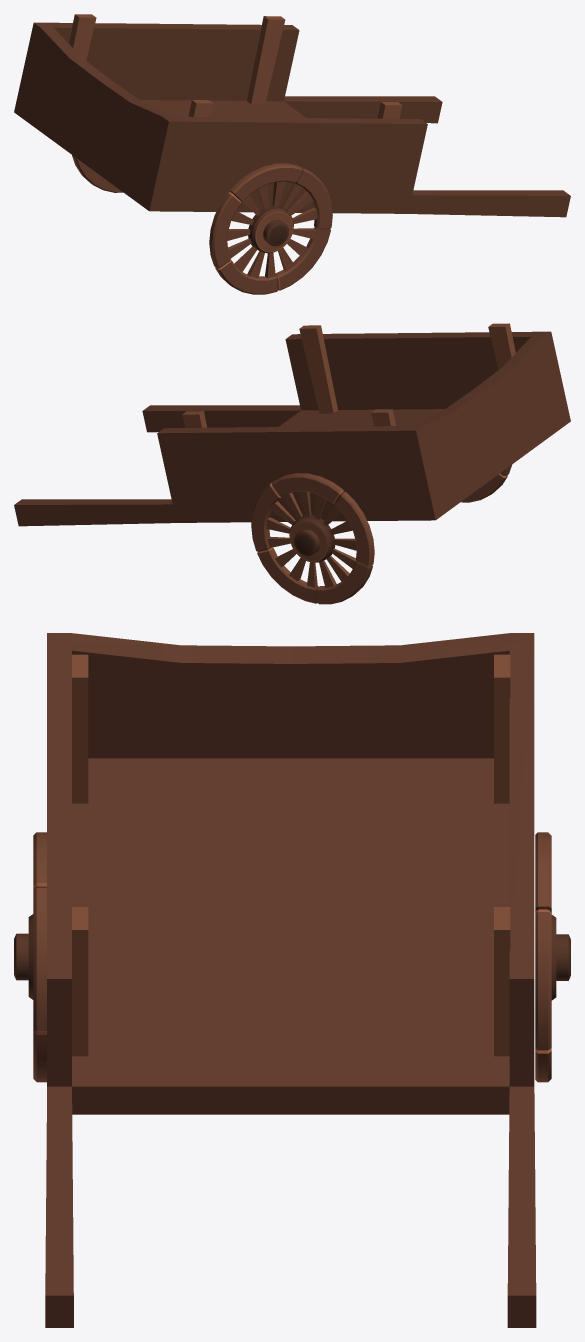
Rendered from WoodCart.fbx.
3 views of the same model, one above another, from view 1: azimuth 30°, elevation 25°; view 2: azimuth 150°, elevation 25°; view 3: azimuth 270°, elevation 25° (orthographic). The views are drawn at different scales.
Parts seen in each view (by area): view 1: WheelWood5; view 2: WheelWood5; view 3: WheelWood5.
Boxes of the visible parts, box(x1,y1,x2,y2) form: WheelWood5: box(14, 14, 570, 294); WheelWood5: box(14, 323, 570, 604); WheelWood5: box(14, 633, 570, 1327).
Size of the model in its own units: 10.99 by 4.95 by 6.99.
